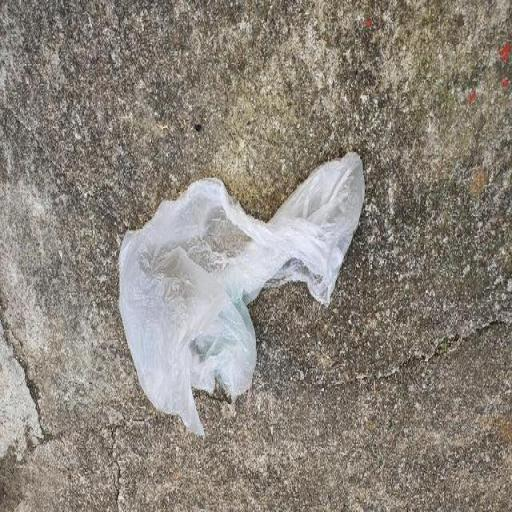plastic-bag: (115, 146, 364, 440)
